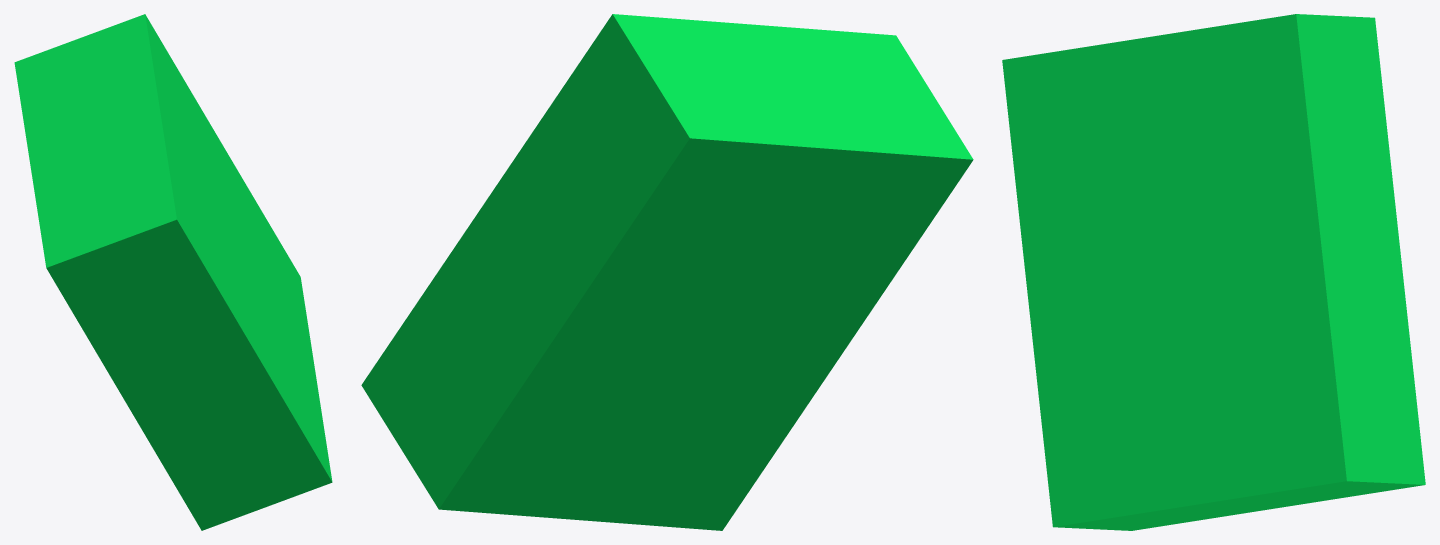
3 views of the same model, side by side, from view 1: azimuth 30°, elevation 25°; view 2: azimuth 150°, elevation 25°; view 3: azimuth 270°, elevation 25° (orthographic). The views are drawn at different scales.
Visible parts, largest first — view 1: Cube; view 2: Cube; view 3: Cube.
Part boxes in pixels (<box>): Cube: <box>14,14,332,530</box>; Cube: <box>361,14,973,530</box>; Cube: <box>1002,14,1425,530</box>.
Size of the model in its own units: 7.13 by 8.46 by 6.18.
